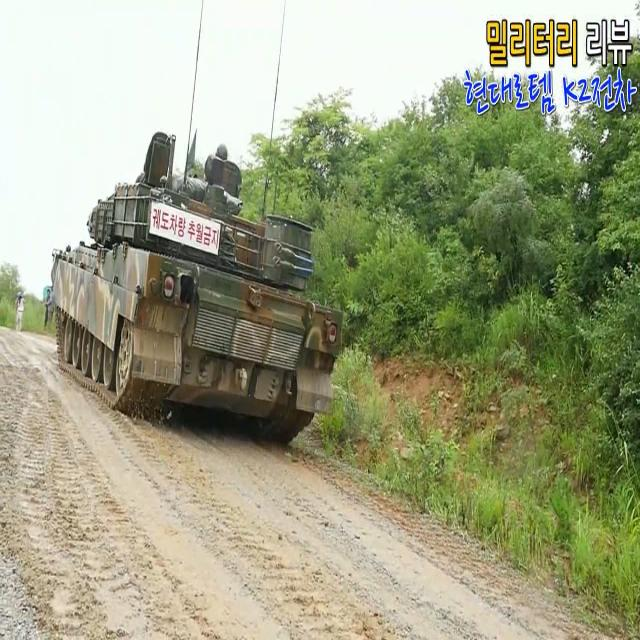korea tank: (51, 131, 344, 449)
